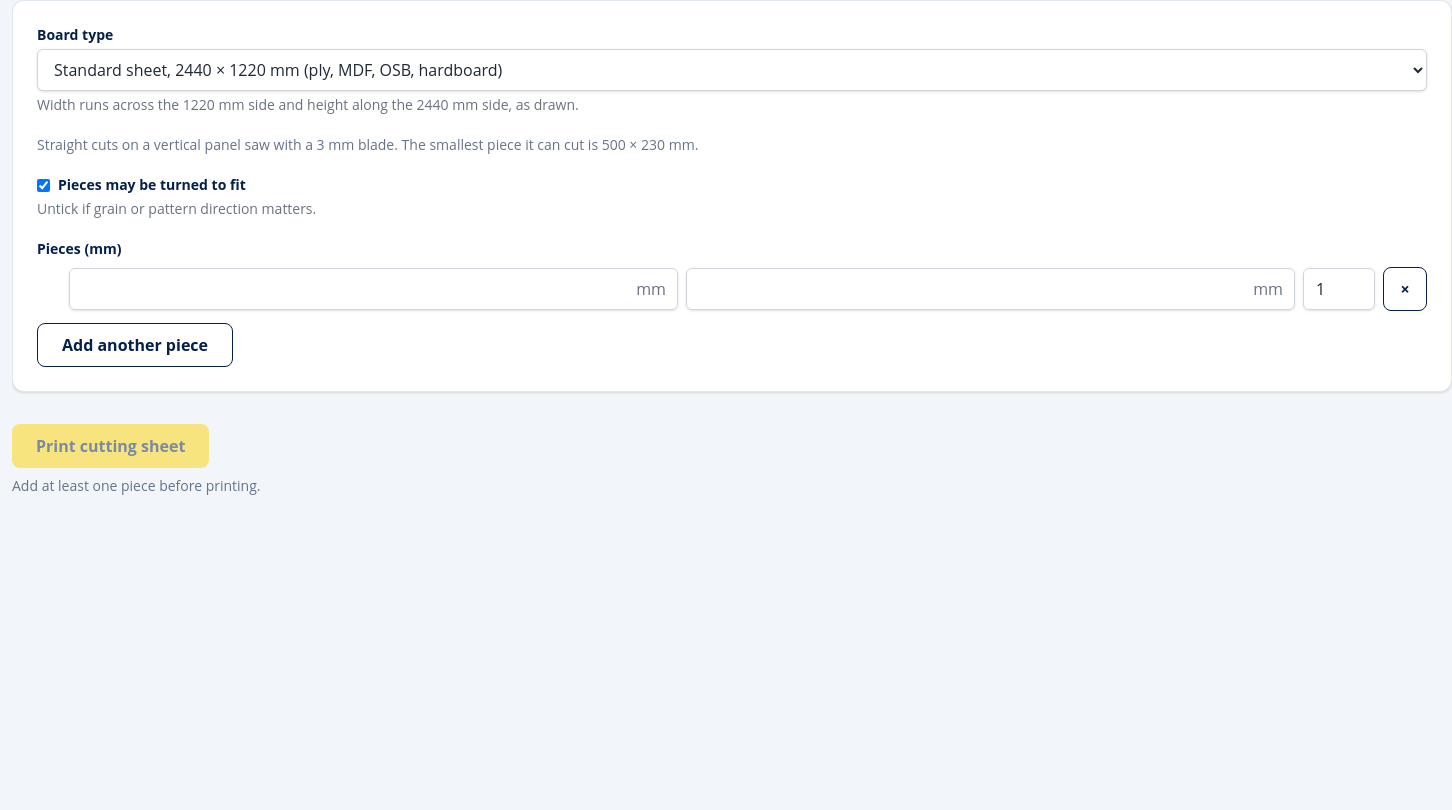
Test: BoardCuttingCalculator › adds and removes pieces
The width and height of the screenshot is (1452, 810).
Click the button "Add another piece" at point(135, 345), box [37,323,233,367]
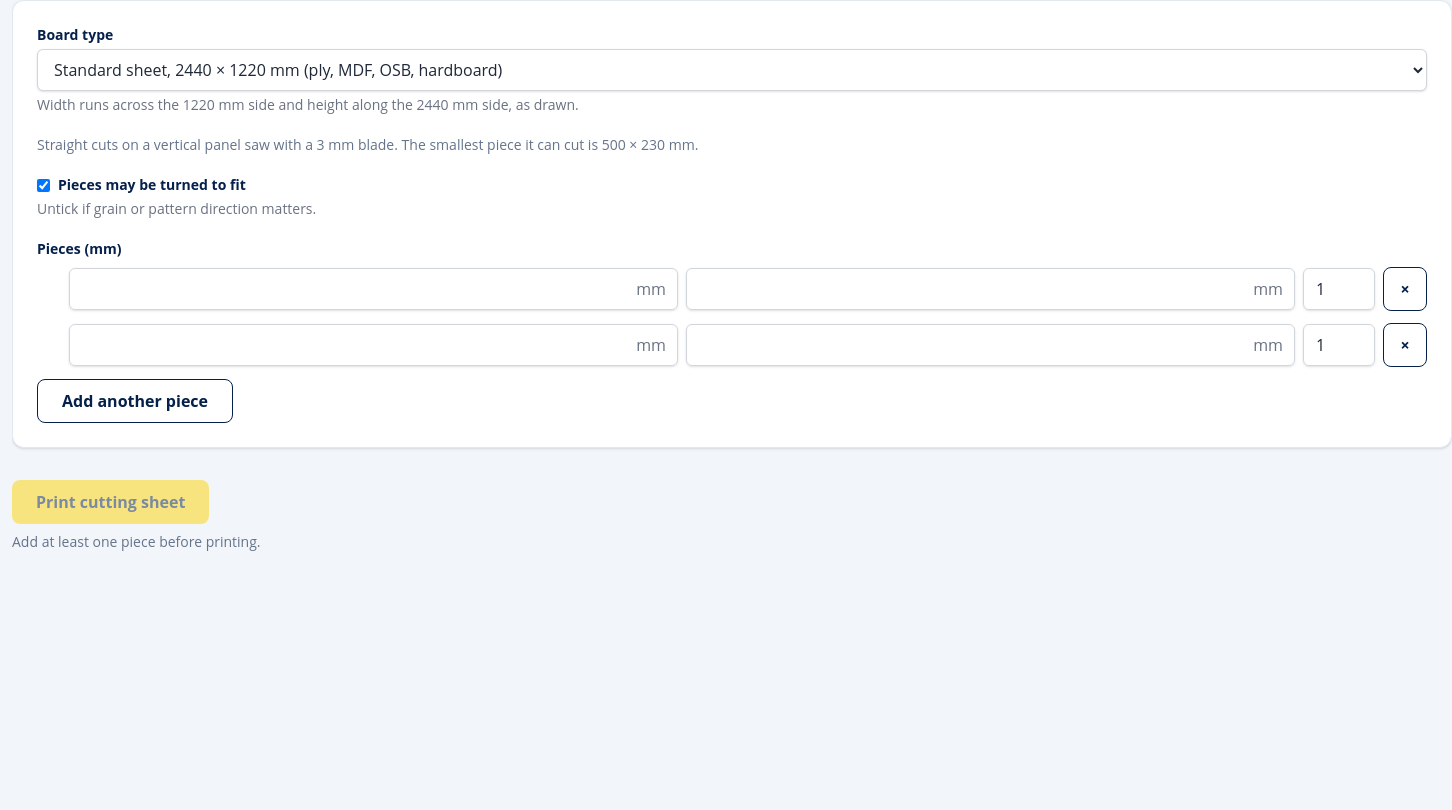
expect the number of number fields named "width of" is 2: met, box [69,268,678,310]; [69,324,678,366]
Click the button named "remove" at point(1405, 289), box [1383,267,1427,311]
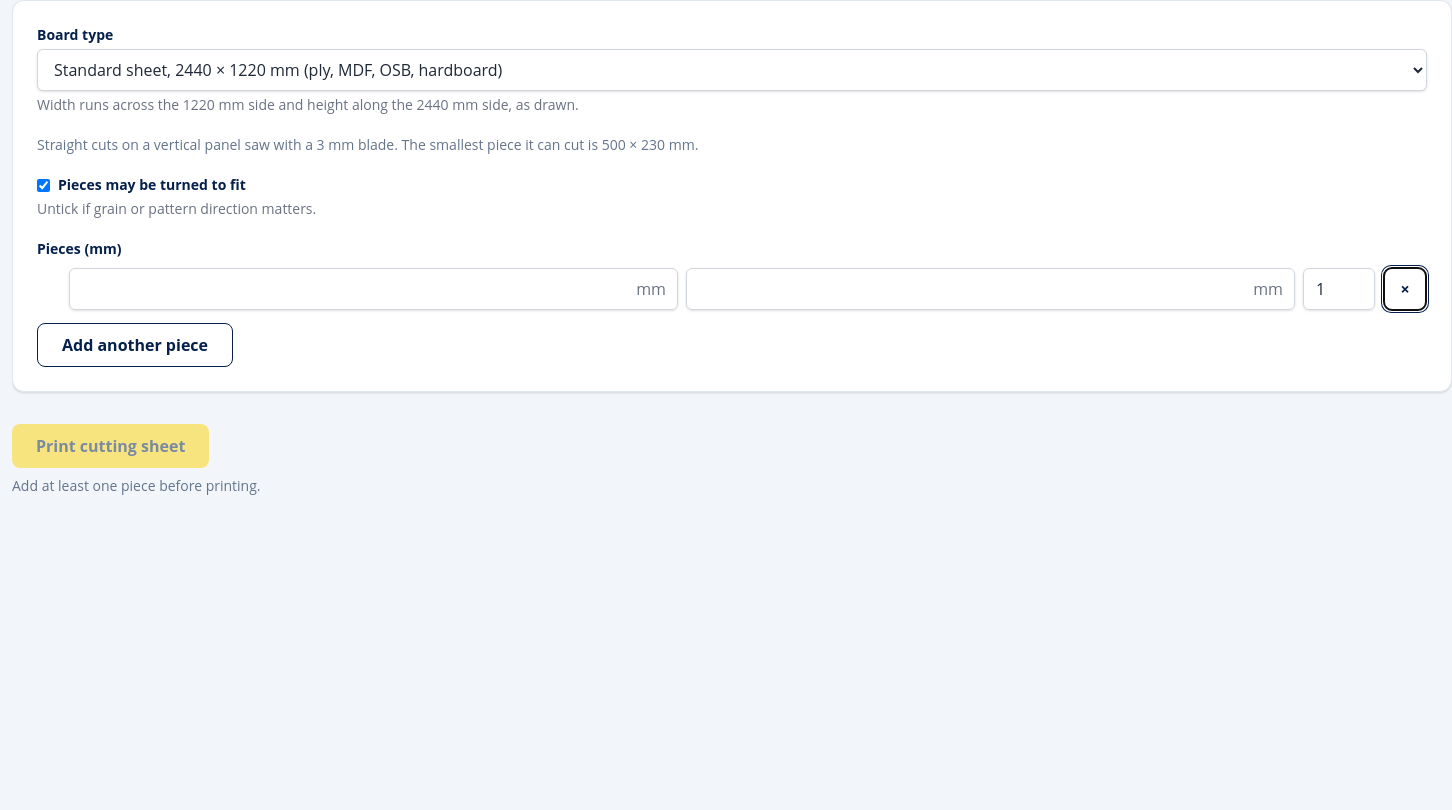
expect the number of number fields named "width of" is 1: met, box [69,268,678,310]
